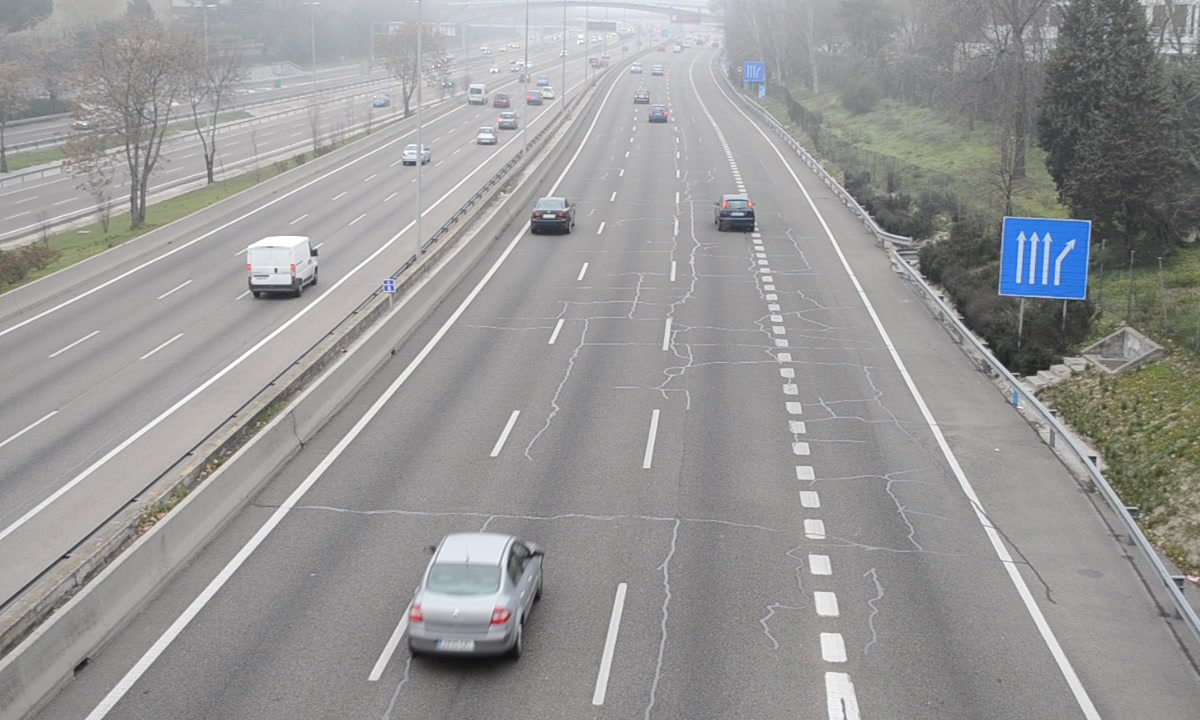car: (407, 535, 546, 659), (531, 197, 572, 233), (716, 193, 754, 230)
